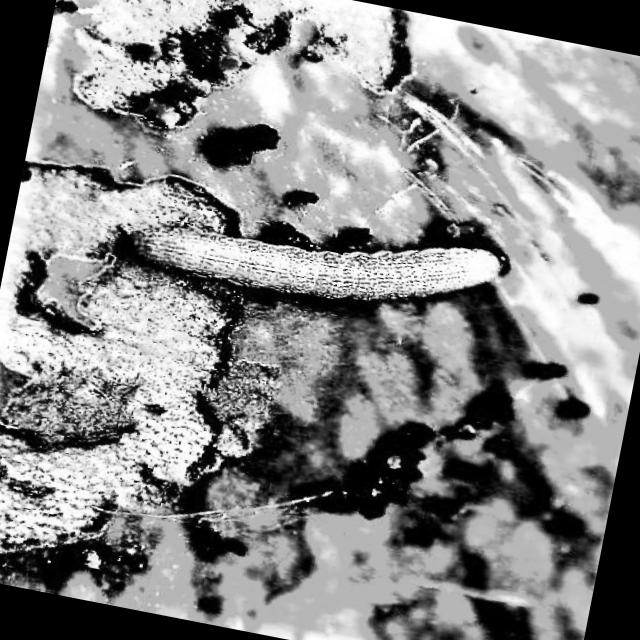Armyworm: (96, 161, 514, 386)
